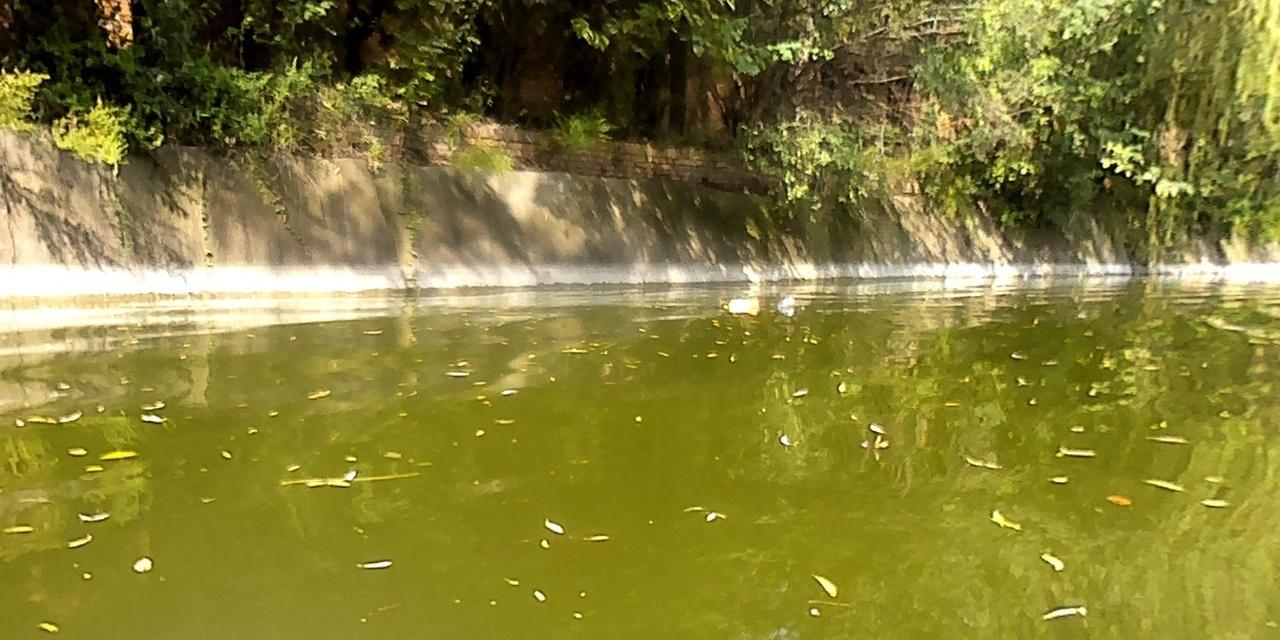bottle: (723, 296, 759, 314), (776, 295, 794, 314)
